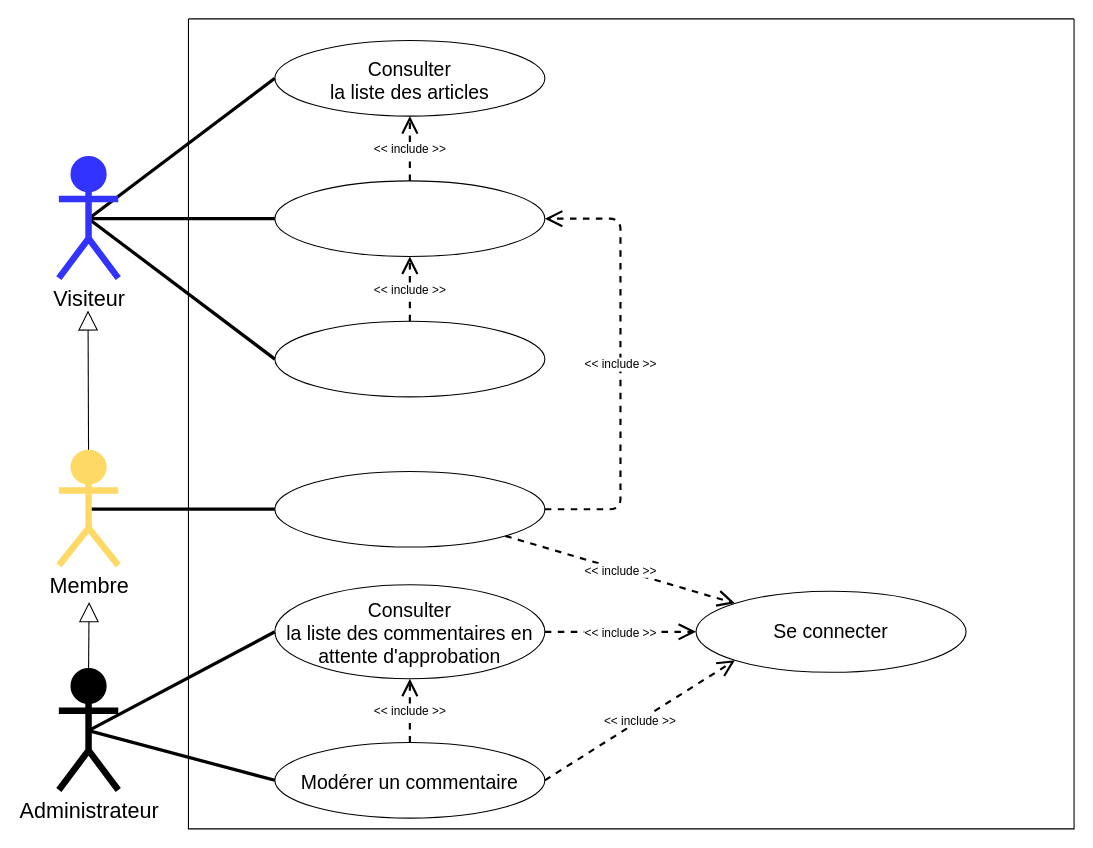
This 1093x848 diagram has some shape labels left out. Each missing label, with the box of its shape:
Commenter un article: (274, 470, 545, 547)
Consulter un article: (274, 180, 545, 256)
Lire les commentaires: (274, 320, 545, 397)
